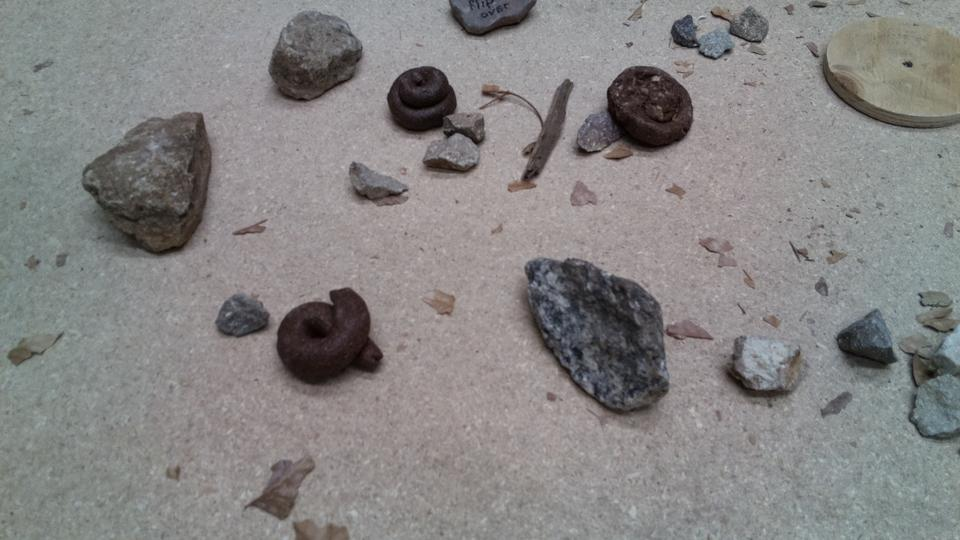poop: (276, 285, 385, 389), (604, 62, 697, 151), (386, 62, 461, 133)
